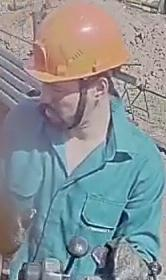gloves: (91, 232, 153, 280)
helmet: (22, 0, 130, 90)
vest: (2, 94, 165, 279)
